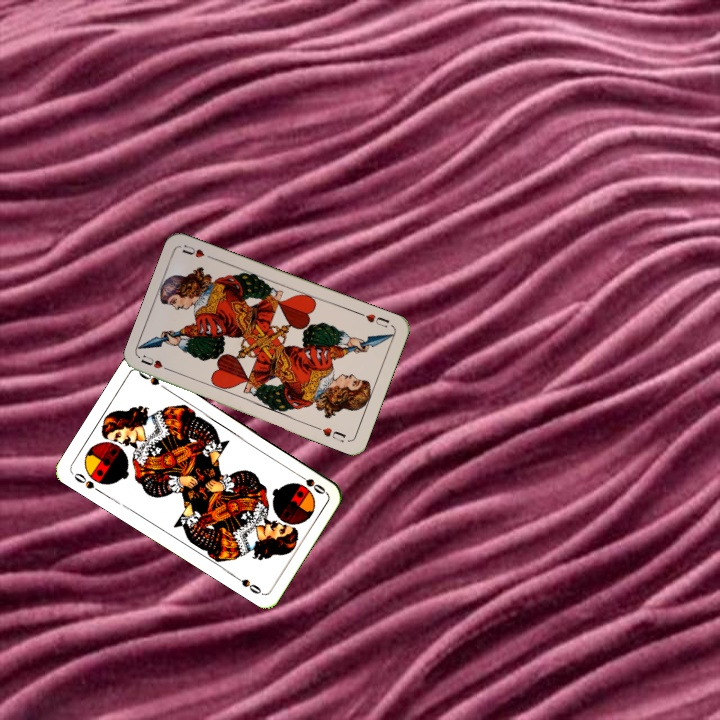HU: (137, 351, 176, 374), (355, 309, 392, 330)
SO: (291, 469, 328, 497), (68, 469, 105, 496)
